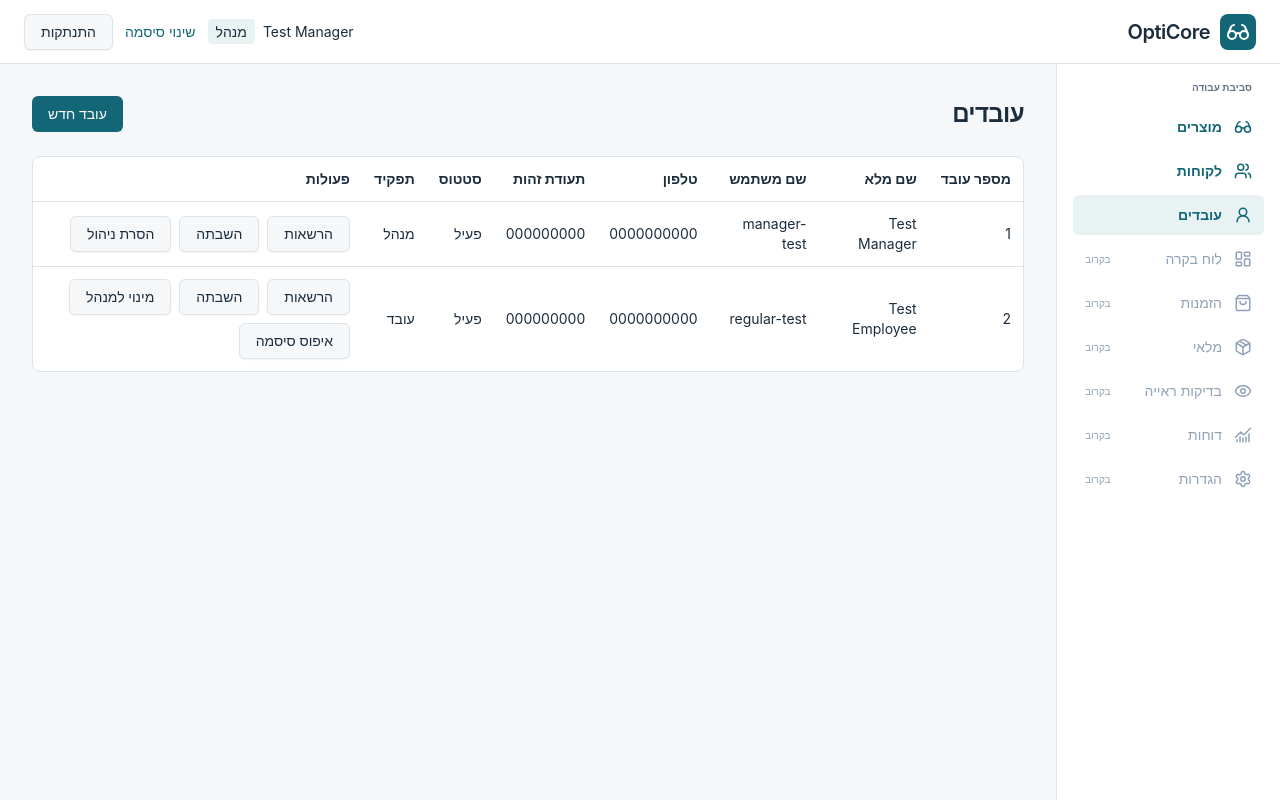
Scenario: disables editing, duplicate saves and dismissal while saving
Click the button "הרשאות" in the row of "regular-test". click: click(309, 297)
box: [267,279,350,315]
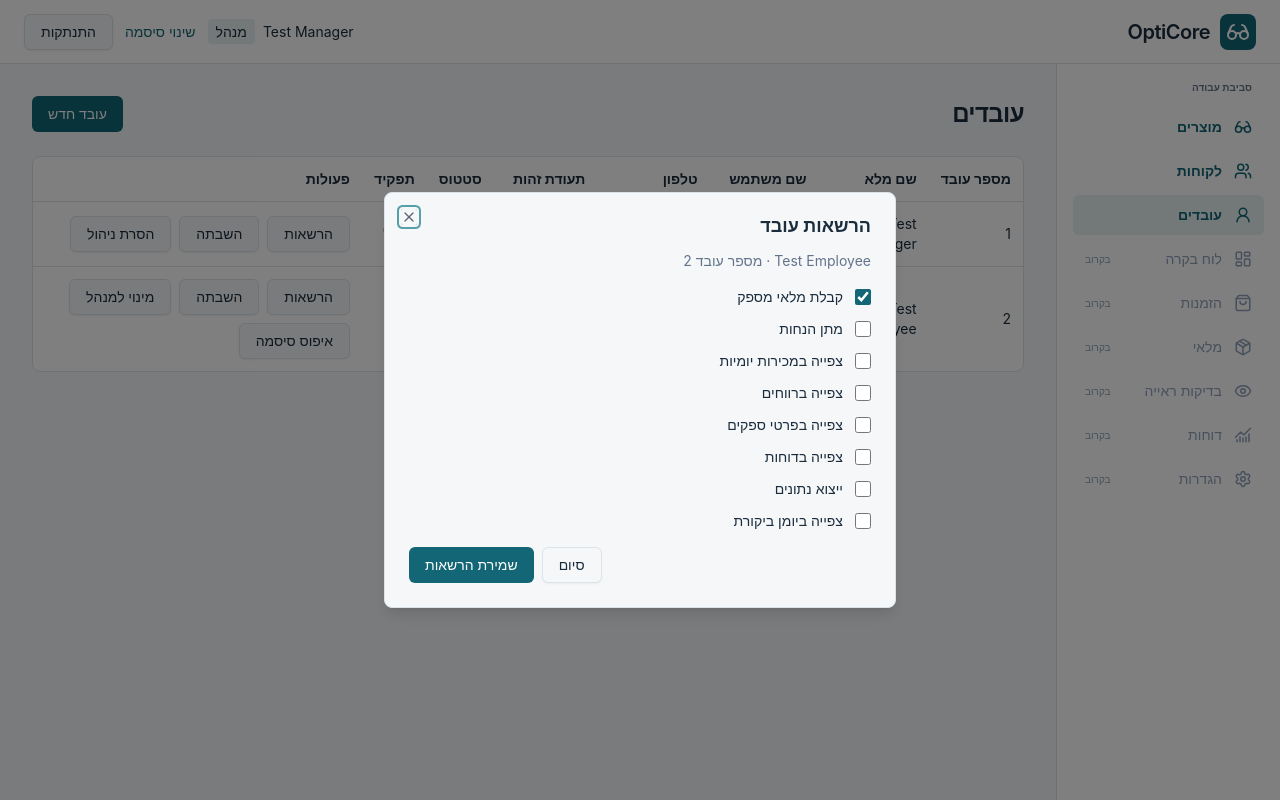
Expected: the checkbox labelled "קבלת מלאי מספק" is shown, [855,289,871,305]
Click the button "שמירת הרשאות". click: click(471, 565)
box: [409,547,534,583]
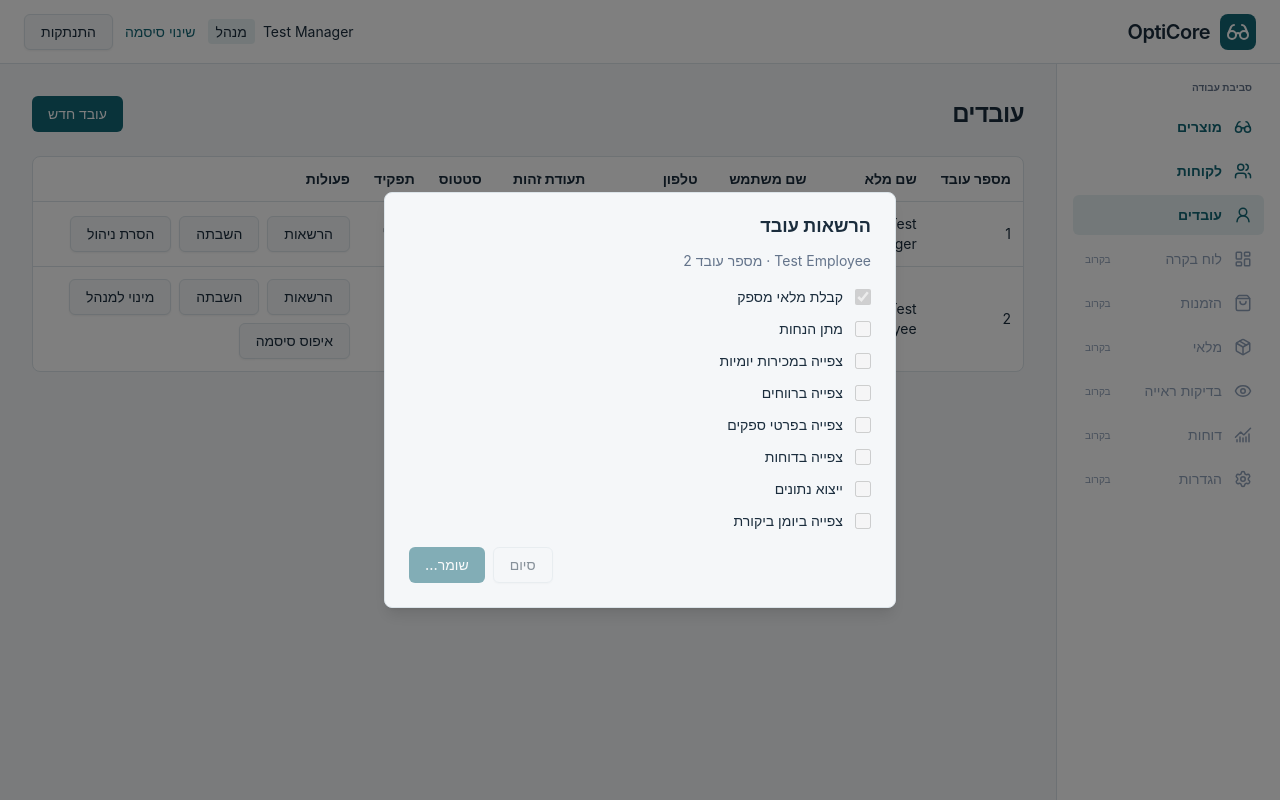
Expected: the checkbox labelled "קבלת מלאי מספק" is disabled, [855,289,871,305]
Expected: the checkbox labelled "מתן הנחות" is disabled, [855,321,871,337]
Expected: the button "שומר…" is disabled, [409,547,485,583]
Press Escape
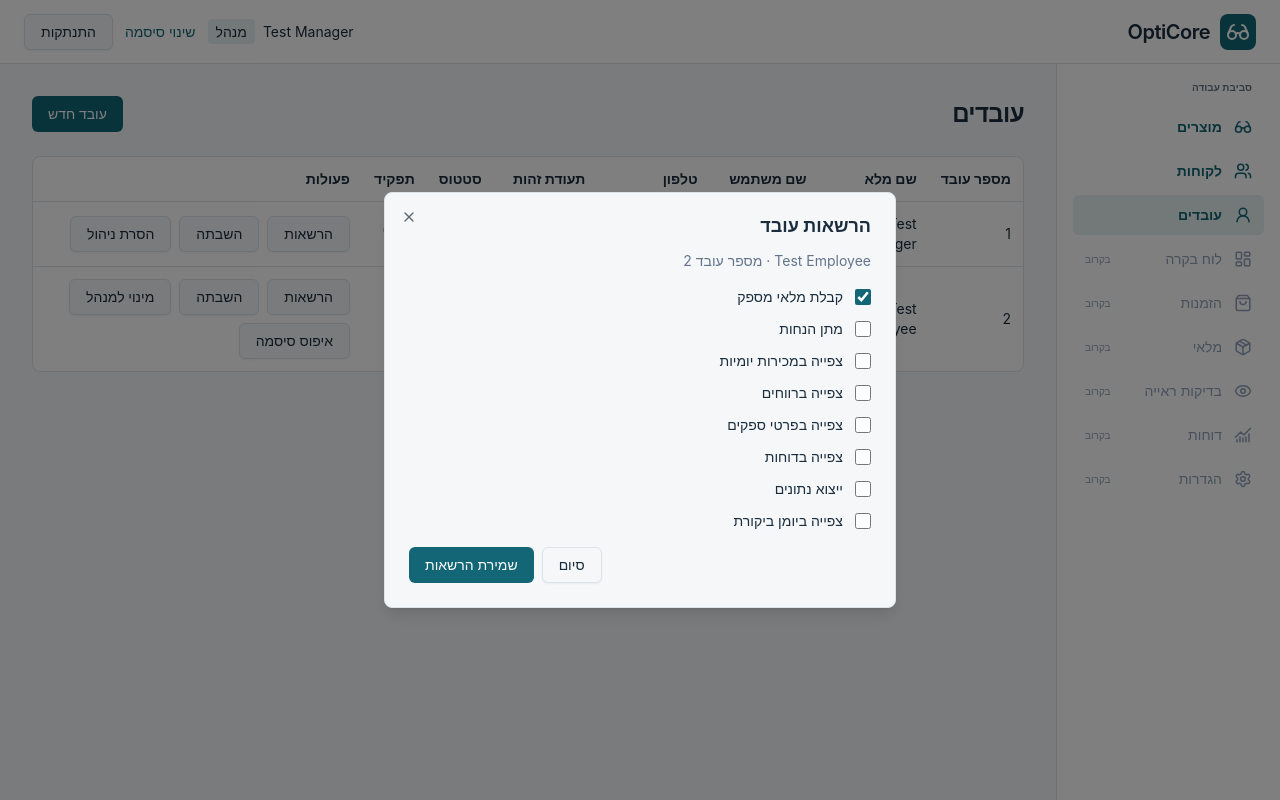
Expected: the dialog is shown, [384,192,896,608]
Expected: the button "שמירת הרשאות" is enabled, [409,547,534,583]
